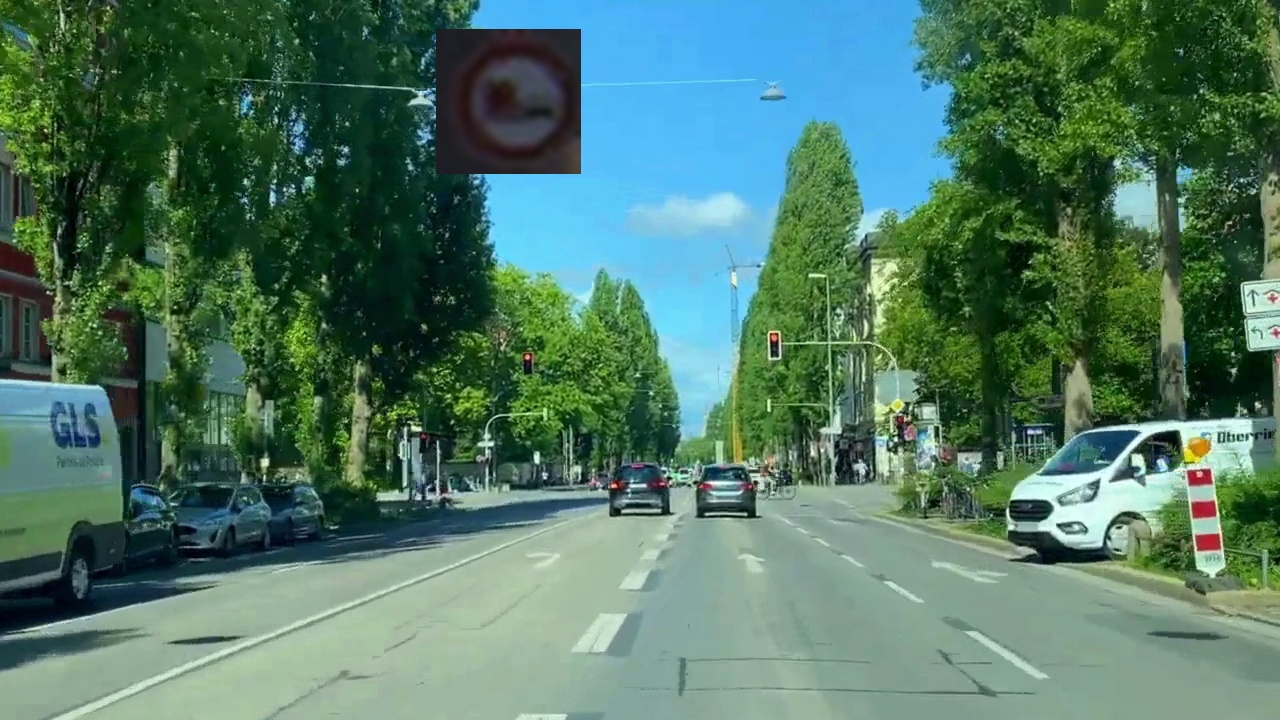No pass >3.5t: (436, 29, 581, 174)
